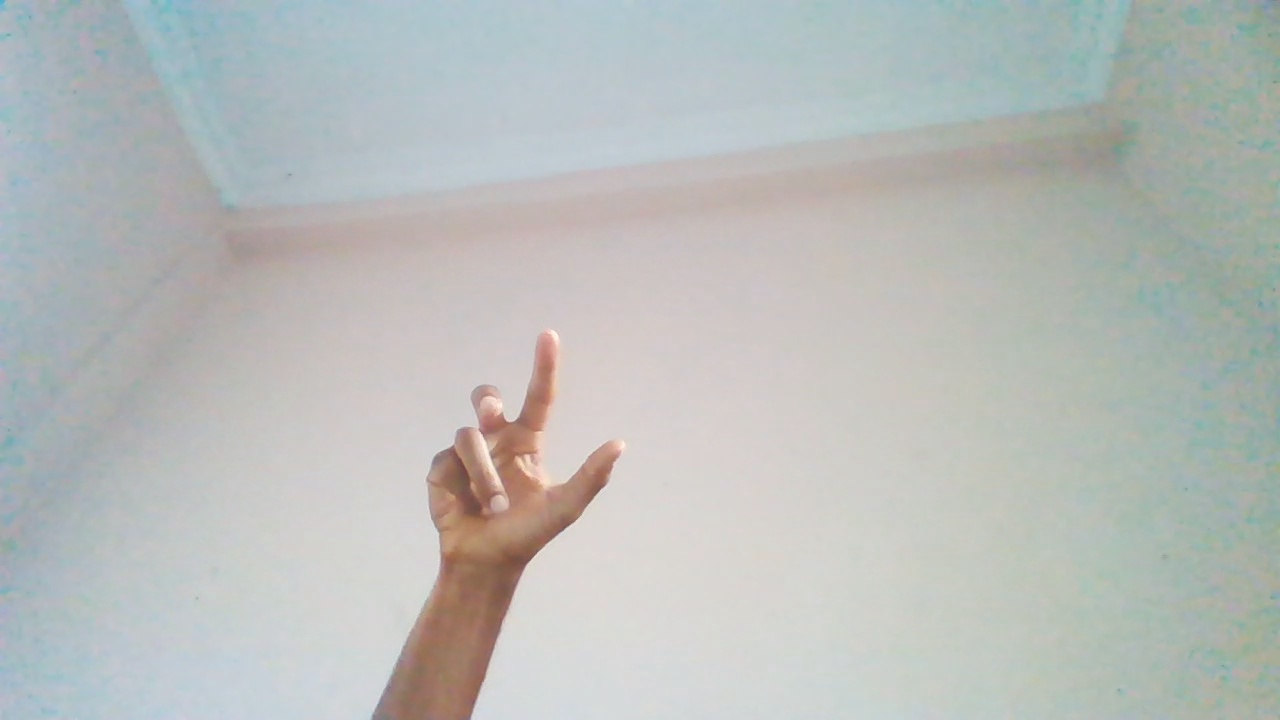hhe: (419, 329, 628, 652)
